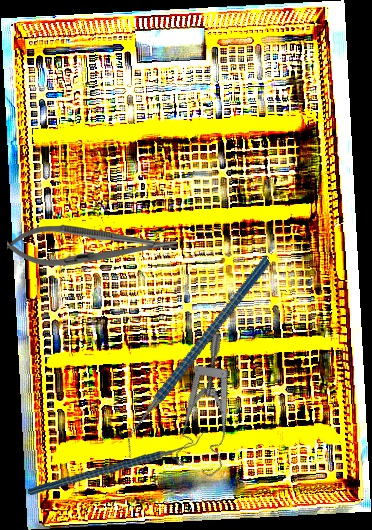Chopper: (77, 255, 319, 460), (28, 421, 206, 504)
Needle Holder: (7, 224, 177, 268)
Speculum: (145, 331, 280, 485)
